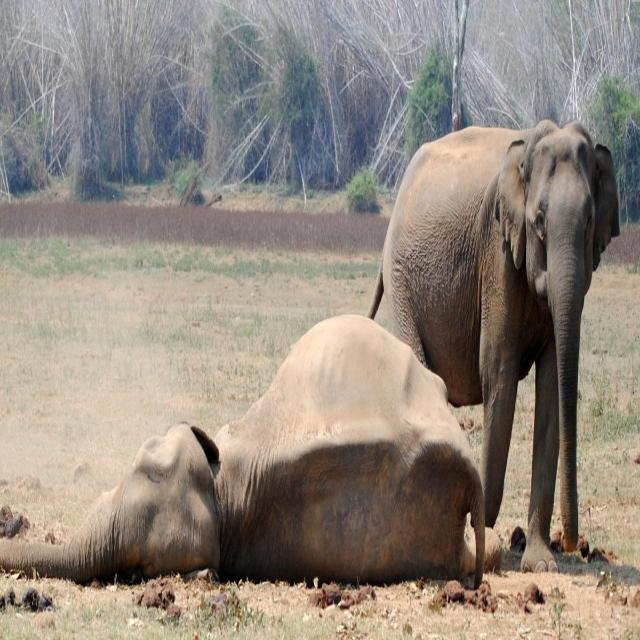Elephant: (2, 310, 486, 594), (369, 117, 625, 556)
